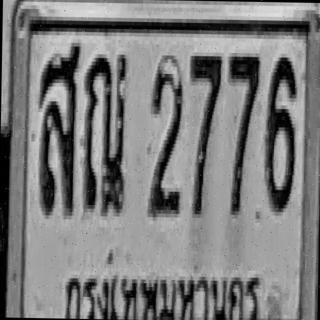A19: (83, 50, 128, 216)
A40: (36, 40, 80, 217)
N02: (147, 55, 183, 217)
N06: (264, 53, 298, 212)
N07: (187, 54, 222, 216), (226, 53, 260, 215)
P04: (56, 258, 264, 320)
